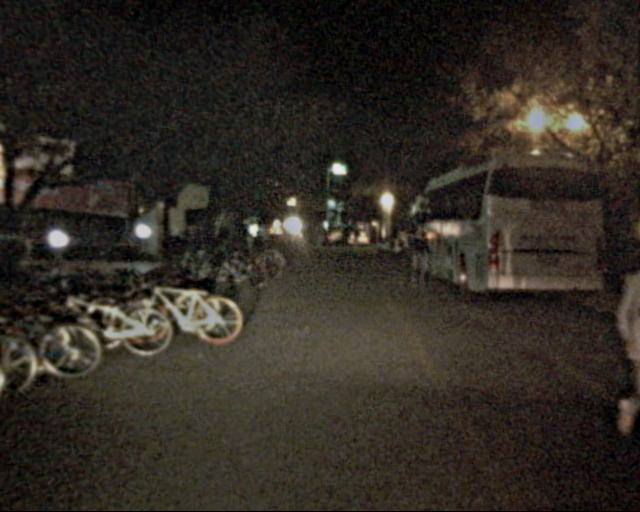person: (595, 242, 640, 440), (404, 218, 434, 292), (255, 222, 272, 263), (350, 228, 361, 256)
